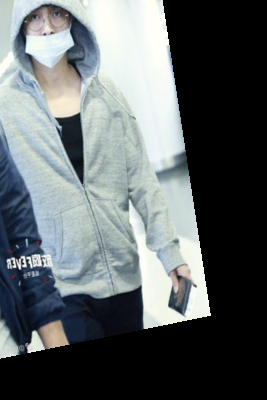mask_weared_incorrect: (1, 1, 94, 74)
